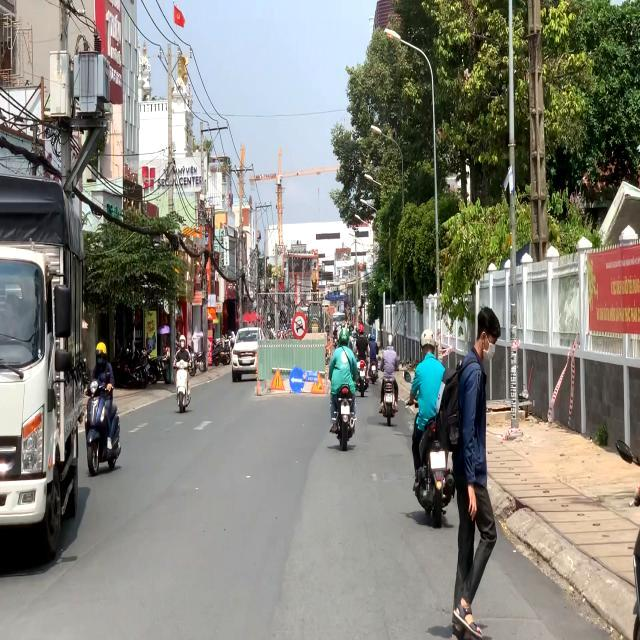Cac xe chi duoc re trai: (288, 366, 306, 394)
Cam xe oto: (291, 312, 307, 340)
